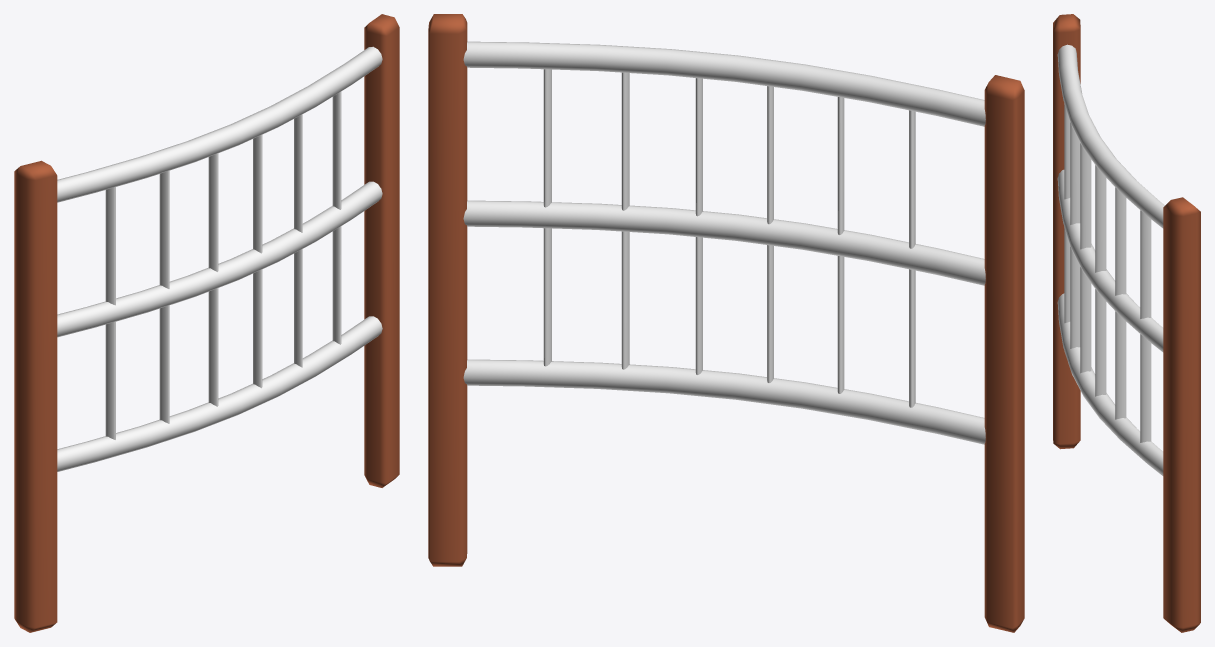
3 views of the same model, side by side, from view 1: azimuth 30°, elevation 25°; view 2: azimuth 150°, elevation 25°; view 3: azimuth 270°, elevation 25° (orthographic). The views are drawn at different scales.
Visible parts, largest first — view 1: fileler5; view 2: fileler5; view 3: fileler5.
Boxes of the visible parts, bbox=[...] form: fileler5: bbox=[14, 14, 399, 632]; fileler5: bbox=[428, 14, 1024, 632]; fileler5: bbox=[1053, 14, 1200, 632].
Size of the model in its own units: 123 by 124 by 39.09.
